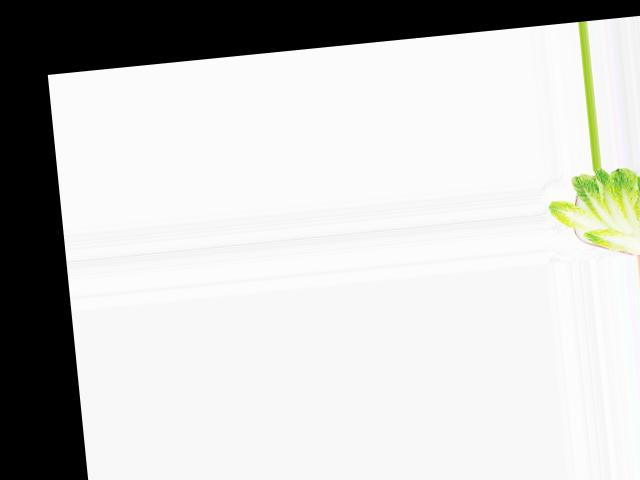lettuce: (543, 161, 640, 261)
